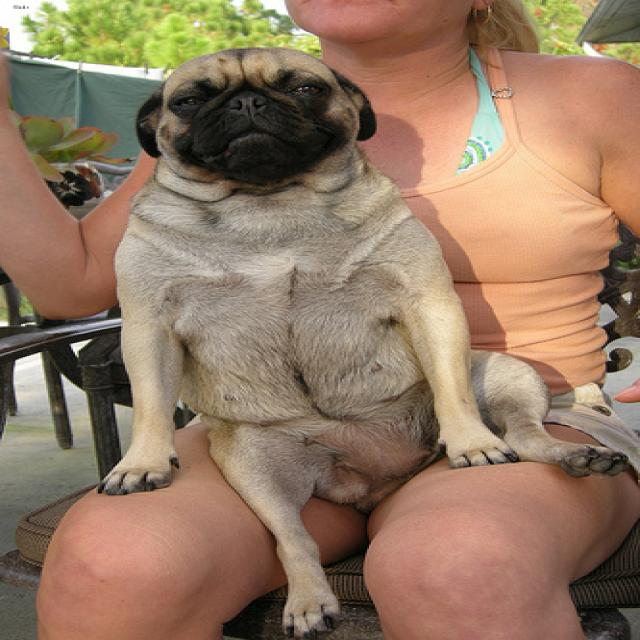dog-pug: (86, 41, 632, 637)
